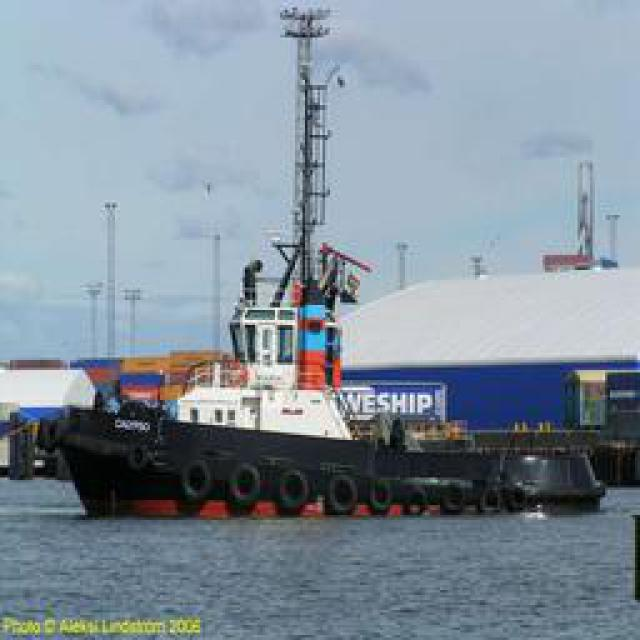Ship: (58, 197, 626, 500)
